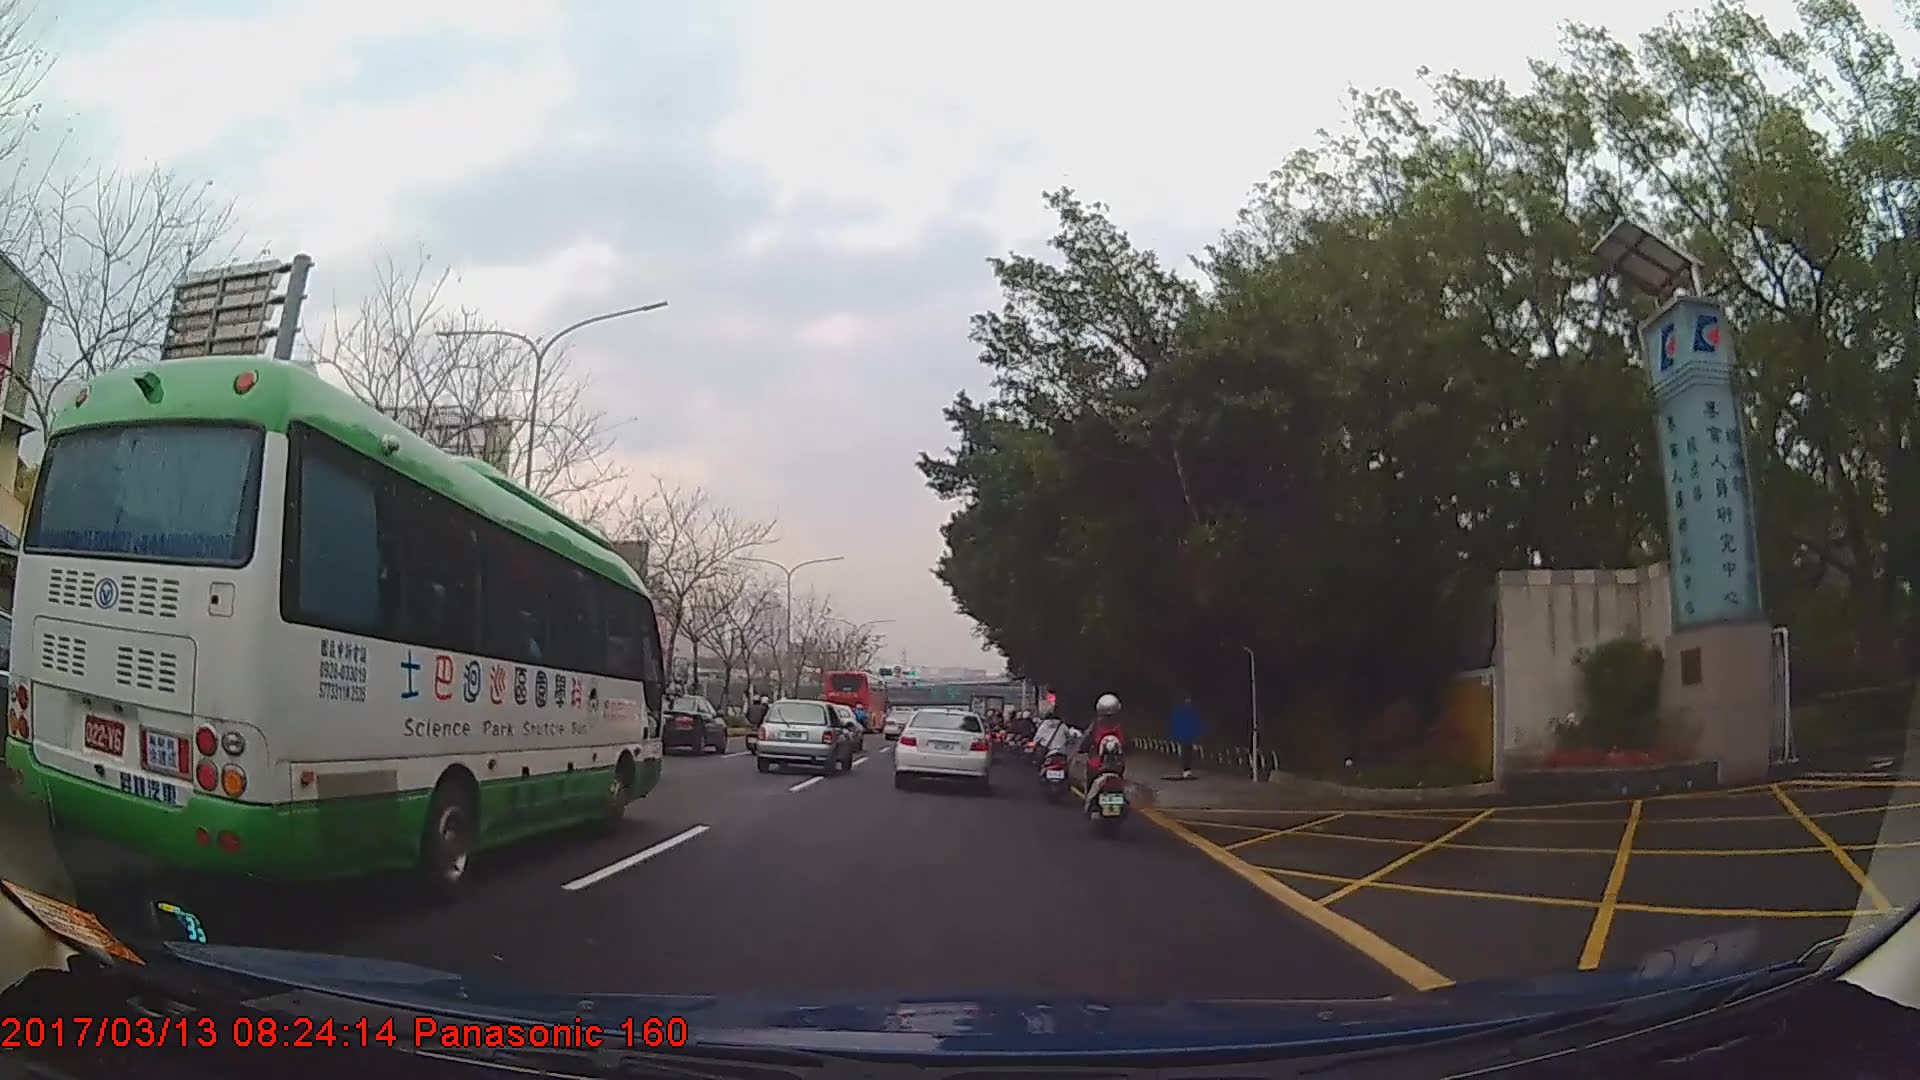pedestrian: (1171, 689, 1206, 777)
rider: (1078, 695, 1133, 834), (1036, 705, 1076, 805), (747, 694, 771, 745)
vehicle: (15, 350, 662, 898), (891, 703, 991, 789), (754, 696, 853, 773), (642, 687, 729, 753), (822, 664, 889, 729)
